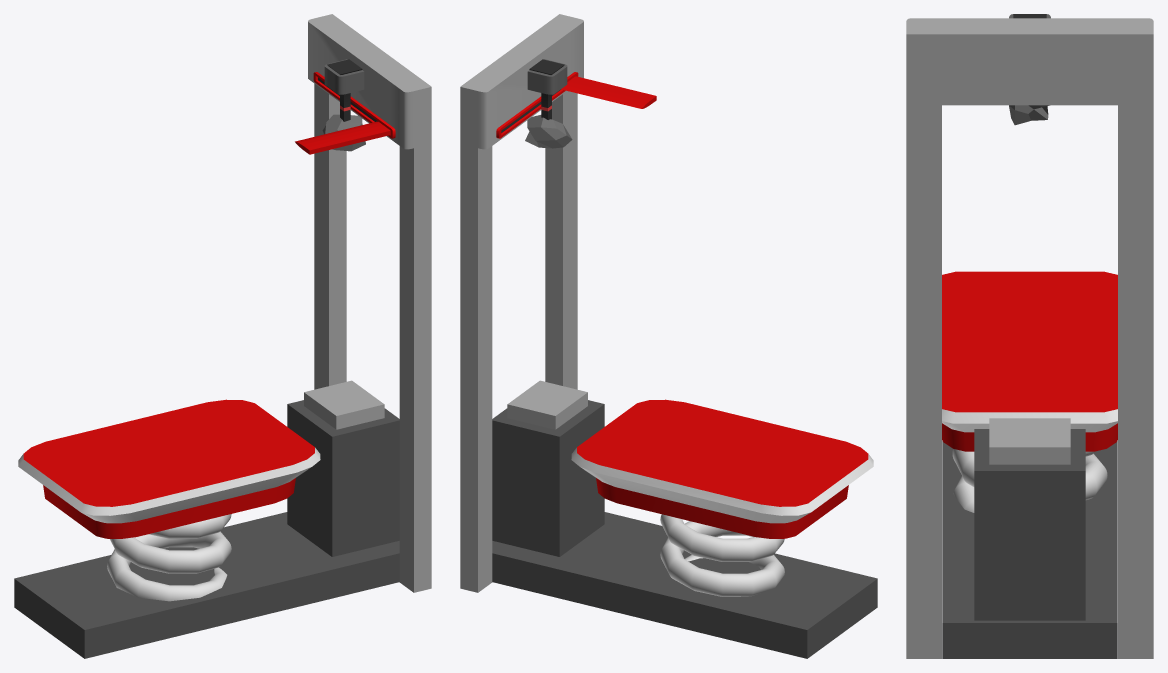
Rendered from ramp_obstacle.fbx.
3 views of the same model, side by side, from view 1: azimuth 30°, elevation 25°; view 2: azimuth 150°, elevation 25°; view 3: azimuth 270°, elevation 25° (orthographic). The views are drawn at different scales.
Visible parts, largest first — view 1: rampstand_obstacle, platform_obstacle, metal_spring, rampbutton_obstacle, rampknife_obstacle, rampstone_obstacle; view 2: rampstand_obstacle, platform_obstacle, metal_spring, rampbutton_obstacle, rampknife_obstacle, rampstone_obstacle; view 3: rampstand_obstacle, platform_obstacle, rampbutton_obstacle, metal_spring, rampstone_obstacle.
Boxes of the visible parts, x1=… form: rampstand_obstacle: x1=14, y1=14, x2=431, y2=658; platform_obstacle: x1=18, y1=399, x2=320, y2=538; metal_spring: x1=107, y1=514, x2=231, y2=601; rampbutton_obstacle: x1=304, y1=380, x2=384, y2=429; rampknife_obstacle: x1=295, y1=121, x2=390, y2=154; rampstone_obstacle: x1=322, y1=107, x2=365, y2=151; rampstand_obstacle: x1=460, y1=14, x2=877, y2=658; platform_obstacle: x1=571, y1=399, x2=873, y2=538; metal_spring: x1=660, y1=514, x2=784, y2=596; rampbutton_obstacle: x1=507, y1=380, x2=587, y2=429; rampknife_obstacle: x1=561, y1=76, x2=656, y2=108; rampstone_obstacle: x1=525, y1=107, x2=572, y2=148; rampstand_obstacle: x1=906, y1=14, x2=1153, y2=658; platform_obstacle: x1=942, y1=271, x2=1117, y2=451; rampbutton_obstacle: x1=989, y1=418, x2=1070, y2=464; metal_spring: x1=952, y1=449, x2=1107, y2=512; rampstone_obstacle: x1=1009, y1=105, x2=1049, y2=125.
Bounding box in the file's own units: 205 × 296 × 106.
